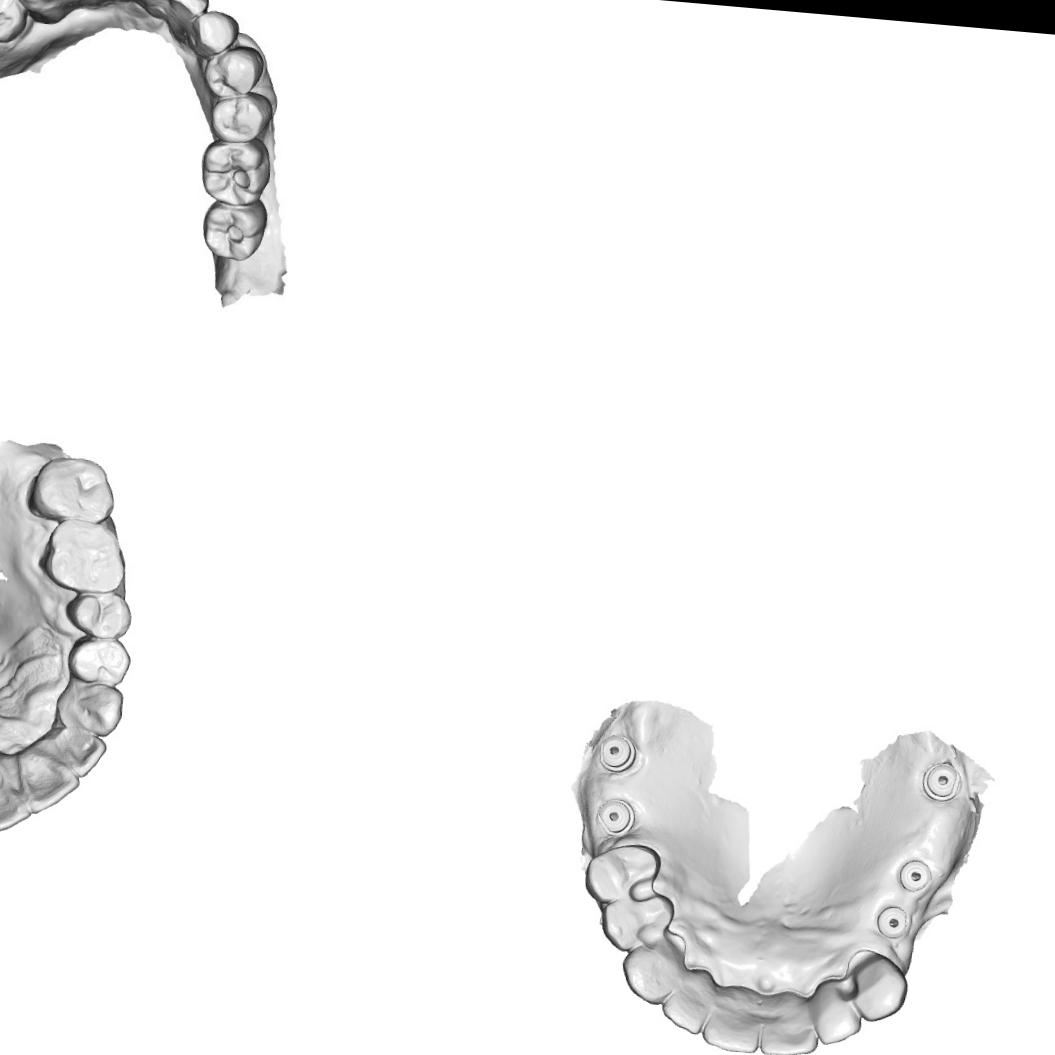canine: (614, 935, 688, 1008), (845, 952, 910, 1026), (53, 676, 125, 738), (184, 5, 239, 60), (12, 0, 72, 23)
implant: (920, 756, 965, 803), (596, 729, 635, 772), (874, 904, 912, 941), (596, 799, 631, 835), (898, 858, 932, 892)
incisor: (12, 746, 83, 818), (696, 993, 764, 1055), (753, 1001, 823, 1055), (656, 975, 715, 1036), (41, 726, 108, 778), (0, 746, 37, 840), (810, 989, 866, 1048), (160, 0, 209, 37), (134, 0, 179, 25)
molar: (42, 516, 128, 596), (27, 452, 119, 524), (198, 135, 271, 208), (198, 197, 270, 263)
premolar: (597, 886, 678, 959), (580, 838, 664, 908), (62, 589, 134, 641), (64, 634, 132, 689), (206, 90, 270, 148), (199, 42, 263, 100), (0, 0, 27, 44)
